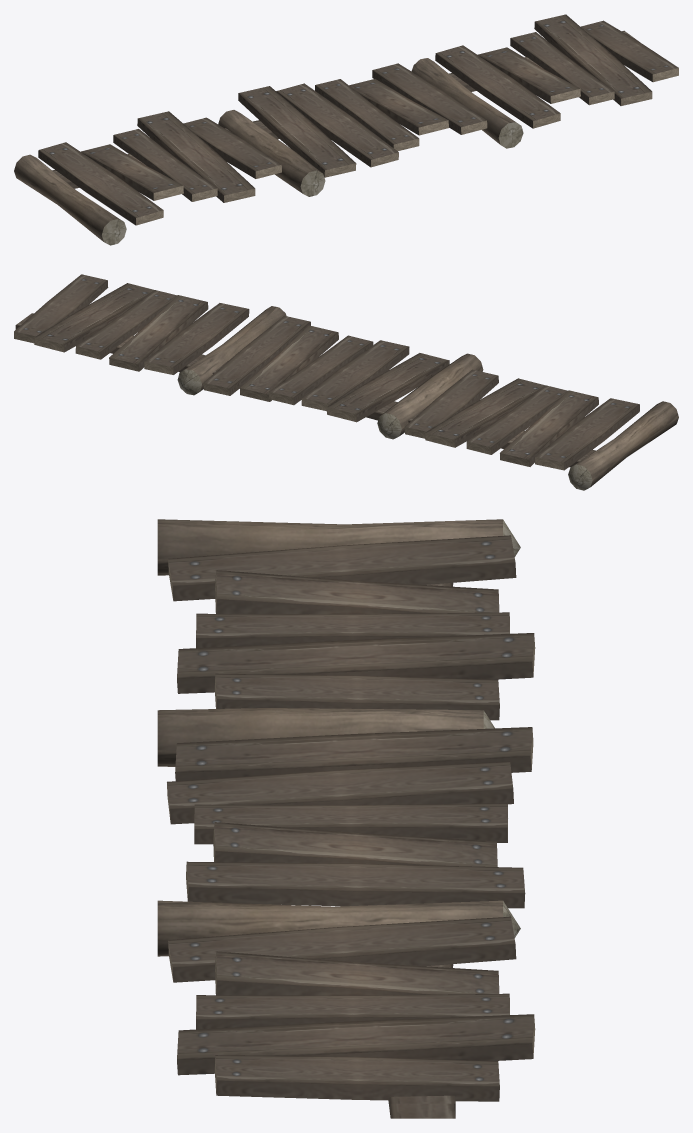
File: Fence_Type_02_C.fbx
The picture shows the model from 3 angles, top to bottom: view 1: azimuth 30°, elevation 25°; view 2: azimuth 150°, elevation 25°; view 3: azimuth 270°, elevation 25°; orthographic projection. The views are drawn at different scales.
Parts seen in each view (by area): view 1: Fence_Type_02_C; view 2: Fence_Type_02_C; view 3: Fence_Type_02_C.
Boxes of the visible parts, x1,y1,x2,y2 form: Fence_Type_02_C: [14, 14, 678, 245]; Fence_Type_02_C: [14, 274, 678, 490]; Fence_Type_02_C: [157, 519, 535, 1118].
Bounding box in the file's own units: 6.04 × 0.2853 × 1.68.
